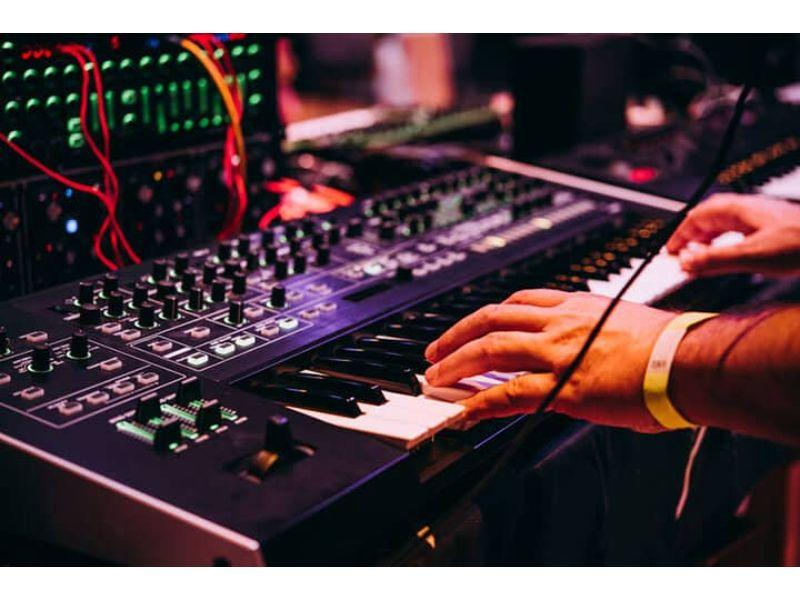synthesizer: (10, 159, 666, 491)
